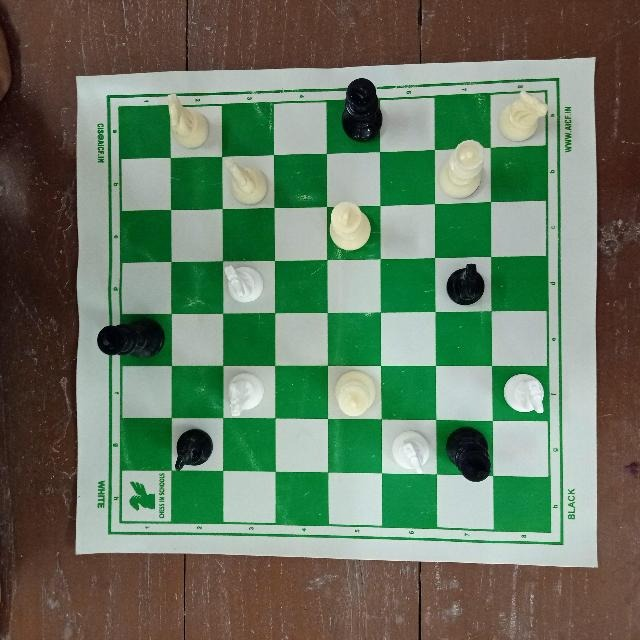black-king: (95, 313, 169, 363), (335, 78, 387, 141), (443, 428, 493, 483)
black-knight: (169, 427, 216, 475), (444, 259, 488, 307)
white-king: (326, 202, 379, 254), (332, 369, 380, 421)
white-knight: (495, 87, 547, 144), (164, 94, 214, 152), (391, 429, 439, 481), (498, 372, 549, 420), (221, 259, 268, 308), (221, 156, 268, 204), (226, 370, 268, 422)
white-queen: (433, 139, 489, 204)
